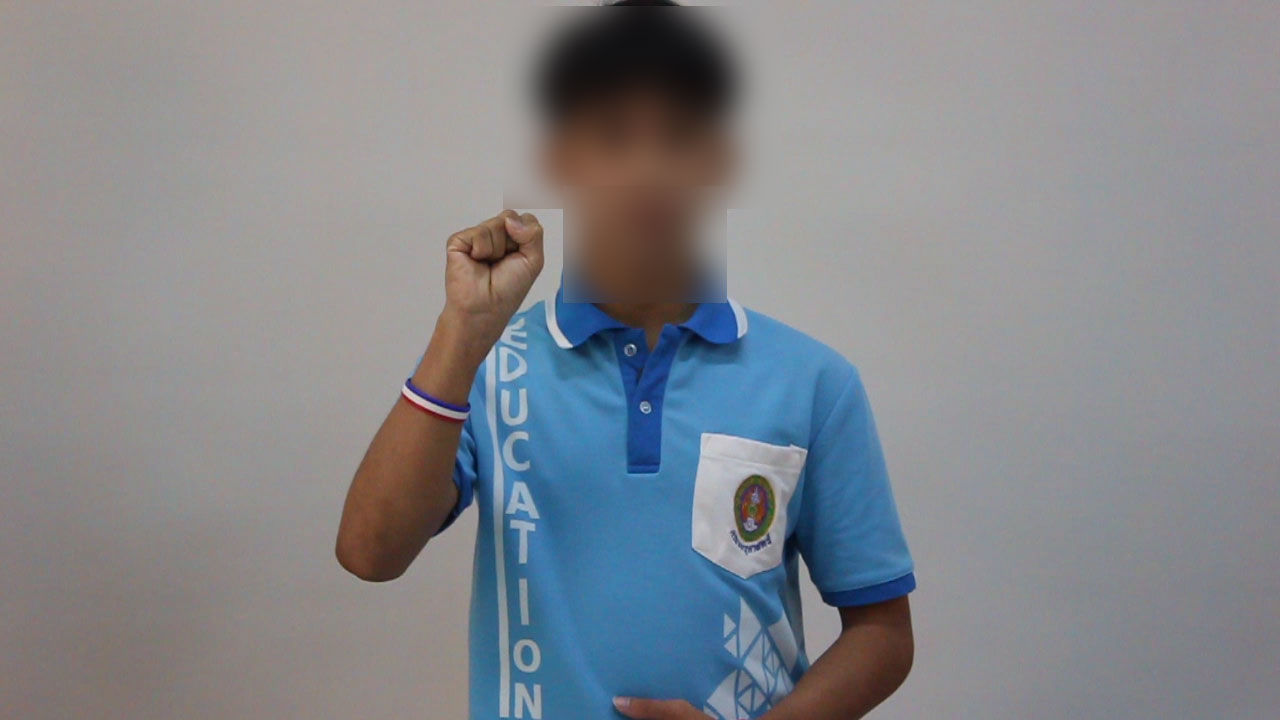sor: (424, 203, 555, 356)
